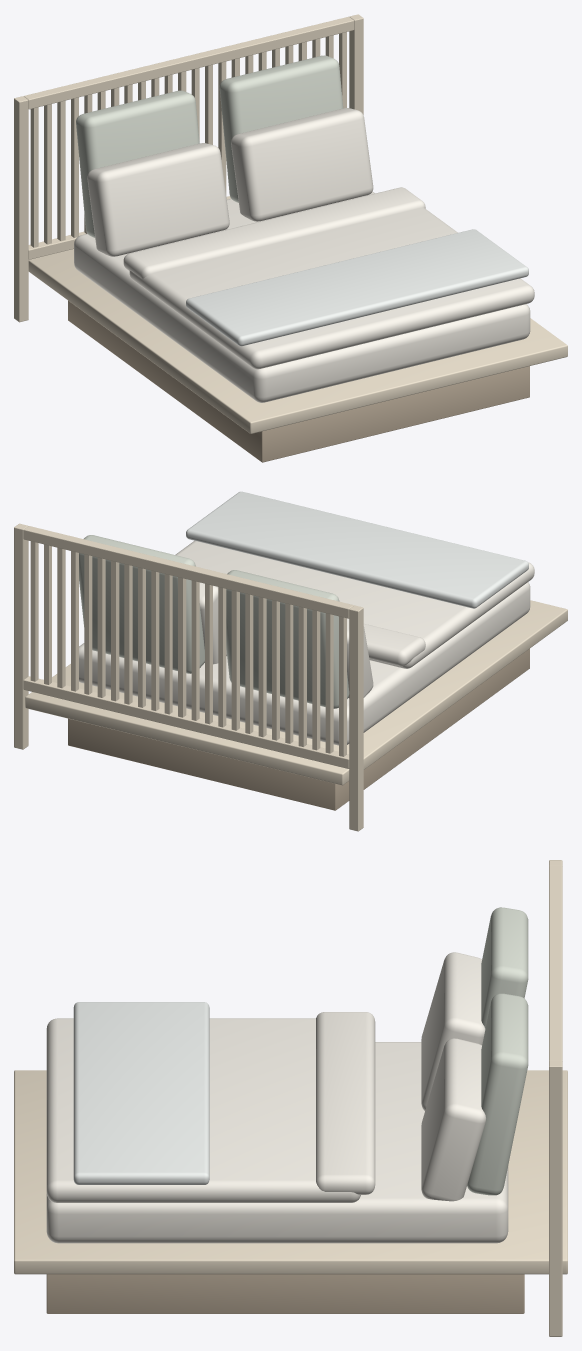
File: sg_bed_double.glb
The picture shows the model from 3 angles, top to bottom: view 1: azimuth 30°, elevation 25°; view 2: azimuth 150°, elevation 25°; view 3: azimuth 270°, elevation 25°; orthographic projection. The views are drawn at different scales.
Parts seen in each view (by area): view 1: duvet, throw, rail, mattress, base, pillow0, pillow1, headframe, headslats, fold, euro0, euro1; view 2: headslats, throw, headframe, rail, base, mattress, duvet, euro1, euro0, fold, pillow1, pillow0; view 3: rail, duvet, mattress, throw, base, fold, pillow1, euro1, headframe, pillow0, euro0.
Boxes of the visible parts, x1,y1,x2,y2 form: duvet: [129, 208, 534, 369]; throw: [186, 229, 528, 346]; rail: [28, 249, 567, 433]; mattress: [74, 191, 530, 402]; base: [68, 300, 529, 462]; pillow0: [87, 143, 229, 256]; pillow1: [231, 108, 373, 221]; headframe: [14, 14, 363, 322]; headslats: [30, 32, 346, 247]; fold: [123, 187, 425, 278]; euro0: [76, 90, 199, 237]; euro1: [219, 55, 343, 202]; headslats: [30, 541, 346, 756]; throw: [186, 491, 528, 608]; headframe: [14, 523, 363, 831]; rail: [25, 600, 567, 785]; base: [68, 648, 529, 810]; mattress: [79, 582, 530, 745]; duvet: [175, 540, 534, 668]; euro1: [79, 535, 204, 673]; euro0: [226, 570, 349, 708]; fold: [363, 623, 425, 666]; pillow1: [199, 582, 226, 664]; pillow0: [347, 618, 373, 697]; rail: [14, 1070, 567, 1274]; duvet: [46, 1018, 360, 1202]; mattress: [46, 1042, 508, 1243]; throw: [73, 1002, 209, 1184]; base: [46, 1274, 524, 1313]; fold: [316, 1012, 375, 1194]; pillow1: [421, 1038, 485, 1201]; euro1: [467, 993, 528, 1195]; headframe: [549, 860, 562, 1336]; pillow0: [421, 952, 485, 1110]; euro0: [481, 907, 528, 1028].
Size of the model in its own units: 1.8 by 1.1 by 2.04.
